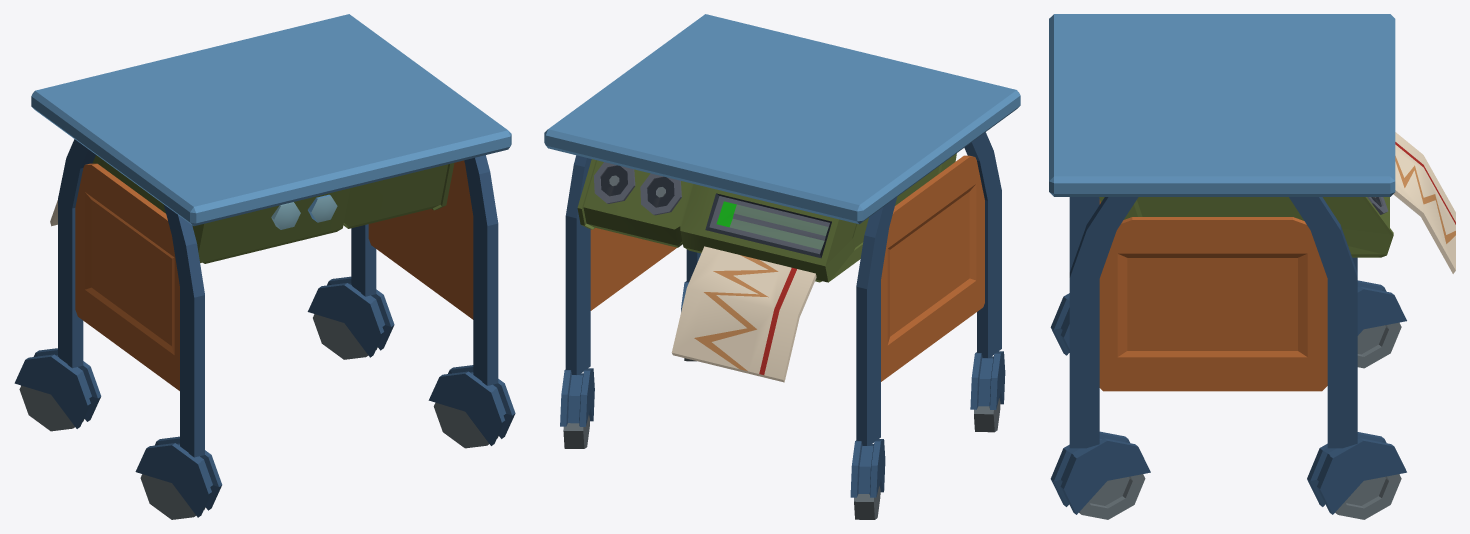
Rendered from g_o_EquipmentCrashCart_used.fbx.
3 renders of one model, left to right at view 1: azimuth 30°, elevation 25°; view 2: azimuth 150°, elevation 25°; view 3: azimuth 270°, elevation 25°, orthographic. The views are drawn at different scales.
Parts seen in each view (by area): view 1: g_o_EquipmentCrashCart_no; view 2: g_o_EquipmentCrashCart_no; view 3: g_o_EquipmentCrashCart_no.
Boxes of the visible parts, x1,y1,x2,y2 form: g_o_EquipmentCrashCart_no: (14,14,515,519); g_o_EquipmentCrashCart_no: (544,14,1020,519); g_o_EquipmentCrashCart_no: (1049,14,1455,519).
Bounding box in the file's own units: 70.58 × 64.07 × 68.04.
